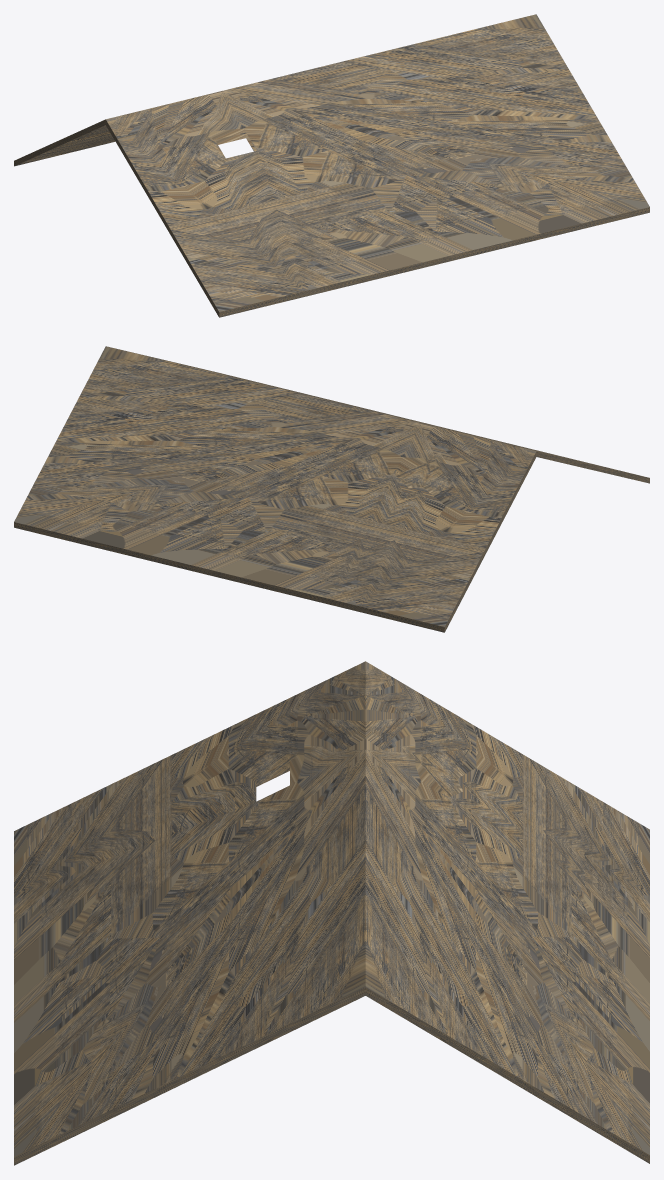
Rendered from BW_Blacksmith01_RoofDeck.fbx.
3 renders of one model, top to bottom at view 1: azimuth 30°, elevation 25°; view 2: azimuth 150°, elevation 25°; view 3: azimuth 270°, elevation 25°, orthographic. The views are drawn at different scales.
Parts seen in each view (by area): view 1: BW_Blacksmith01_RoofDeck; view 2: BW_Blacksmith01_RoofDeck; view 3: BW_Blacksmith01_RoofDeck.
Boxes of the visible parts, left/top/right/bottom form: BW_Blacksmith01_RoofDeck: left=14, top=14, right=649, bottom=317; BW_Blacksmith01_RoofDeck: left=14, top=346, right=649, bottom=632; BW_Blacksmith01_RoofDeck: left=14, top=661, right=649, bottom=1165.
Size of the model in its own units: 10.3 by 2.64 by 8.5.
